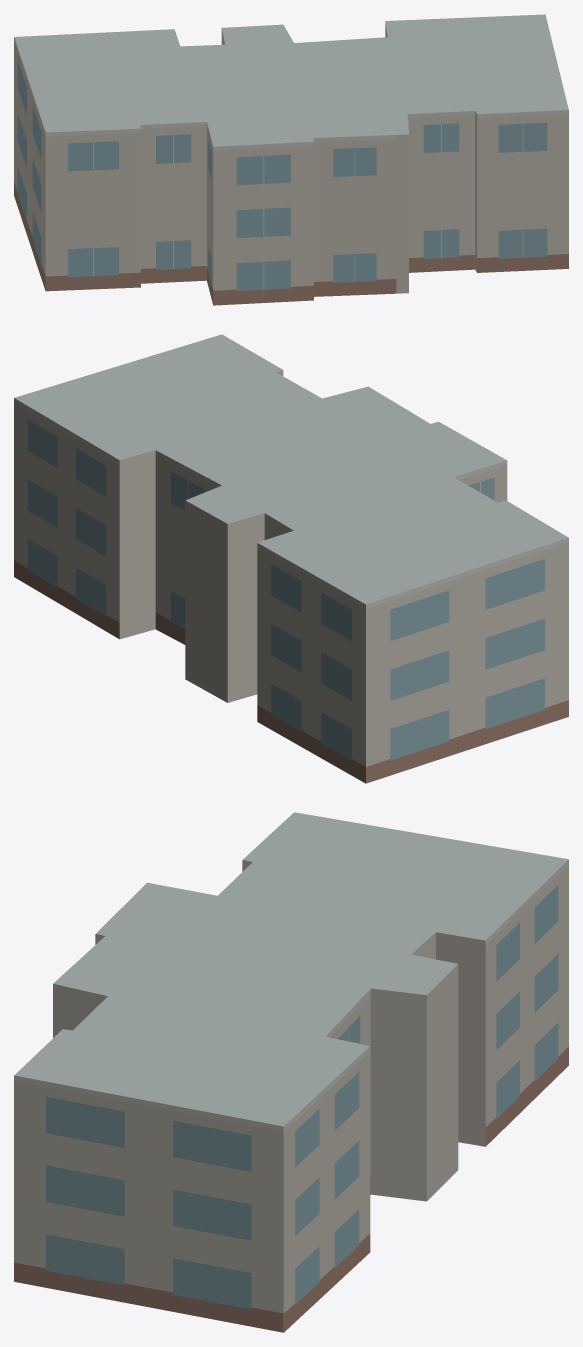
The model's file is survey-upis-32595983.glb.
The picture shows the model from 3 angles, top to bottom: view 1: azimuth 30°, elevation 25°; view 2: azimuth 150°, elevation 25°; view 3: azimuth 270°, elevation 25°; orthographic projection. The views are drawn at different scales.
Visible parts, largest first — view 1: survey-upis-32595983.tmp; view 2: survey-upis-32595983.tmp; view 3: survey-upis-32595983.tmp.
Part boxes in pixels (x1,y1,x2,y2): survey-upis-32595983.tmp: (14, 14, 568, 305); survey-upis-32595983.tmp: (14, 334, 568, 783); survey-upis-32595983.tmp: (14, 812, 568, 1332).
Size of the model in its own units: 29.91 by 9.15 by 22.32.
